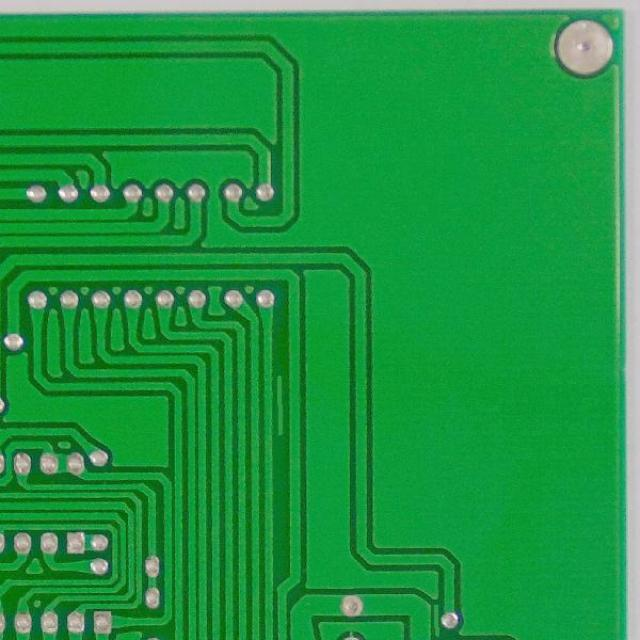Spurious_Cooper: (273, 370, 286, 439)
